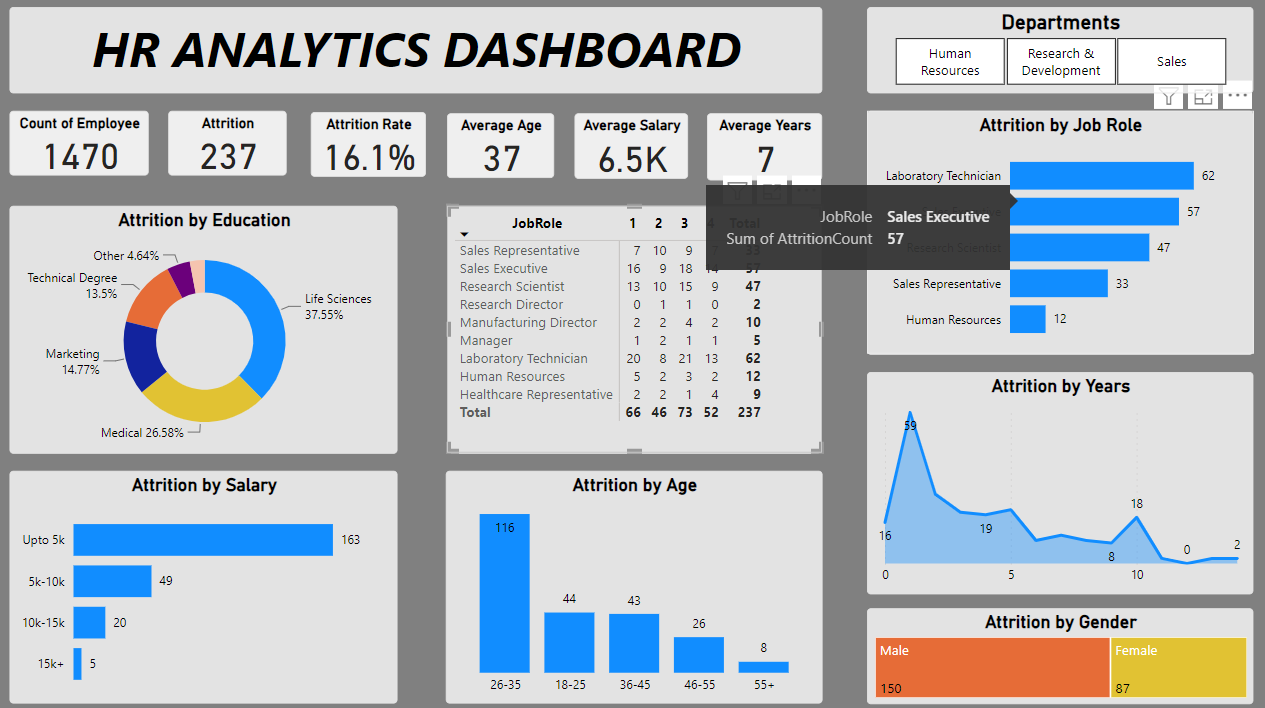

The dashboard page shown, as its layout file describes it:
{"tool":"powerbi","page":{"name":"Page 1","canvas":[1280,720],"ordinal":0},"visuals":[{"type":"card","title":"Count of Employee","fields":{"Values":["CountNonNull(HR_Analytics.EmpID)"]},"box":[17,113.8,139.4,64.9],"z":0},{"type":"card","title":"Attrition","fields":{"Values":["Sum(HR_Analytics.AttritionCount)"]},"box":[176.6,113.8,118.1,64.9],"z":1000},{"type":"card","title":"Attrition Rate","fields":{"Values":["HR_Analytics.AttritionRate"]},"box":[319.1,114.9,114.9,64.9],"z":2000},{"type":"card","title":"Average Age ","fields":{"Values":["Avg(HR_Analytics.Age)"]},"box":[455.3,116,107.4,64.9],"z":3000},{"type":"card","title":"Average Salary","fields":{"Values":["Avg(HR_Analytics.MonthlyIncome)"]},"box":[583,116,113.8,66],"z":4000},{"type":"card","title":"Average Years ","fields":{"Values":["Avg(HR_Analytics.YearsAtCompany)"]},"box":[714.9,116,114.9,67],"z":5000},{"type":"donutChart","title":"Attrition by Education","fields":{"Category":["HR_Analytics.EducationField"],"Y":["Sum(HR_Analytics.AttritionCount)"]},"box":[17,208.5,388.3,247.9],"z":6000},{"type":"columnChart","title":"Attrition by Age","fields":{"Category":["HR_Analytics.AgeGroup"],"Y":["Sum(HR_Analytics.AttritionCount)"]},"box":[453.2,473.4,376.6,233],"z":7000},{"type":"pivotTable","fields":{"Rows":["HR_Analytics.JobRole"],"Columns":["HR_Analytics.JobSatisfaction"],"Values":["Sum(HR_Analytics.AttritionCount)"]},"box":[455.3,208.5,374.5,247.9],"z":8000},{"type":"barChart","title":"Attrition by Salary","fields":{"Category":["HR_Analytics.SalarySlab"],"Y":["Sum(HR_Analytics.AttritionCount)"]},"box":[17,473.4,388.3,233],"z":9000},{"type":"barChart","title":"Attrition by Job Role","fields":{"Category":["HR_Analytics.JobRole"],"Y":["Sum(HR_Analytics.AttritionCount)"]},"box":[875.5,113.8,386.2,243.6],"z":10000},{"type":"areaChart","title":"Attrition by Years","fields":{"Category":["HR_Analytics.YearsAtCompany"],"Y":["Sum(HR_Analytics.AttritionCount)"]},"box":[875,375,386.2,222.5],"z":11000},{"type":"treemap","title":"Attrition by Gender","fields":{"Group":["HR_Analytics.Gender"],"Values":["Sum(HR_Analytics.AttritionCount)"]},"box":[875.5,610.6,386.2,95.7],"z":12000},{"type":"slicer","title":"Departments","fields":{"Values":["HR_Analytics.Department"]},"box":[875.5,9.6,386.2,86.2],"z":13000},{"type":"textbox","box":[17,9.6,812.8,86.2],"z":14000}]}

Visuals, with their boxes in screenshot pixels (x1, y1, x2, y2), scaled from the page's 1280x720 canvas onto the 1265x708 screenshot:
"Count of Employee" card: (17, 112, 155, 176)
"Attrition" card: (175, 112, 291, 176)
"Attrition Rate" card: (315, 113, 429, 177)
"Average Age " card: (450, 114, 556, 178)
"Average Salary" card: (576, 114, 689, 179)
"Average Years " card: (707, 114, 820, 180)
"Attrition by Education" donutChart: (17, 205, 401, 449)
"Attrition by Age" columnChart: (448, 466, 820, 695)
pivotTable - HR_Analytics.JobRole x HR_Analytics.JobSatisfaction: (450, 205, 820, 449)
"Attrition by Salary" barChart: (17, 466, 401, 695)
"Attrition by Job Role" barChart: (865, 112, 1247, 351)
"Attrition by Years" areaChart: (865, 369, 1246, 588)
"Attrition by Gender" treemap: (865, 600, 1247, 695)
"Departments" slicer: (865, 9, 1247, 94)
textbox: (17, 9, 820, 94)
